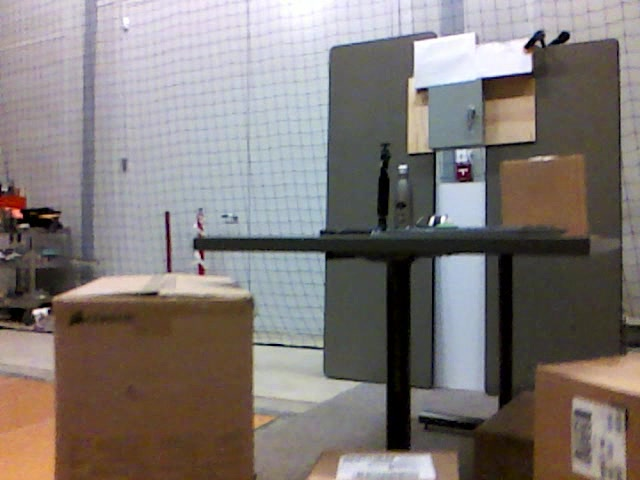box: (54, 271, 252, 480), (536, 351, 639, 480), (501, 156, 589, 236), (474, 391, 535, 476), (305, 448, 462, 480)
